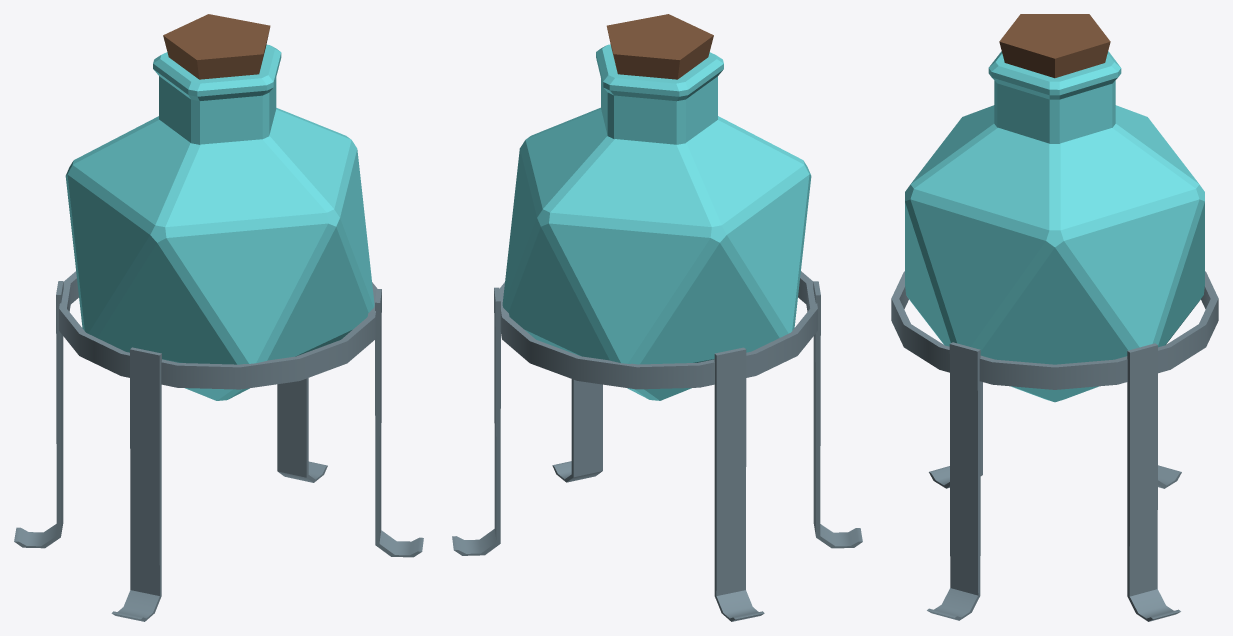
File: Potion_06_Blue.fbx
3 views of the same model, side by side, from view 1: azimuth 30°, elevation 25°; view 2: azimuth 150°, elevation 25°; view 3: azimuth 270°, elevation 25° (orthographic).
Parts seen in each view (by area): view 1: Icosphere.009, Cube.047, Cylinder.058, Cylinder.057, Cylinder.059, Cube.048, Cube.049, Cube.046; view 2: Icosphere.009, Cube.049, Cylinder.058, Cylinder.057, Cylinder.059, Cube.046, Cube.047, Cube.048; view 3: Icosphere.009, Cube.048, Cube.046, Cylinder.058, Cylinder.057, Cylinder.059, Cube.047.
Boxes of the visible parts, x1,y1,x2,y2 form: Icosphere.009: (65, 108, 374, 400); Cube.047: (111, 347, 161, 621); Cylinder.058: (153, 44, 281, 144); Cylinder.057: (59, 271, 377, 389); Cylinder.059: (163, 14, 270, 79); Cube.048: (277, 378, 327, 482); Cube.049: (14, 281, 63, 548); Cube.046: (375, 289, 423, 557); Icosphere.009: (502, 107, 811, 400); Cube.049: (714, 347, 764, 621); Cylinder.058: (596, 44, 723, 144); Cylinder.057: (499, 271, 817, 389); Cylinder.059: (606, 14, 713, 79); Cube.046: (552, 379, 602, 482); Cube.047: (813, 281, 862, 548); Cube.048: (452, 287, 500, 555); Icosphere.009: (905, 105, 1204, 402); Cube.048: (1127, 343, 1180, 621); Cube.046: (927, 342, 980, 620); Cylinder.058: (988, 51, 1121, 143); Cylinder.057: (891, 271, 1218, 389); Cylinder.059: (999, 14, 1110, 78); Cube.047: (929, 381, 982, 488).
Bounding box in the file's own units: 25.27 × 39.03 × 22.52.
